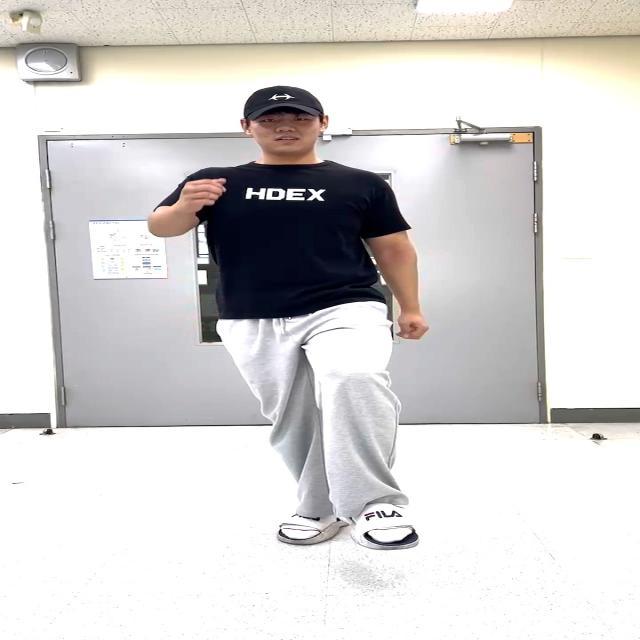leg: (294, 315, 492, 557)
